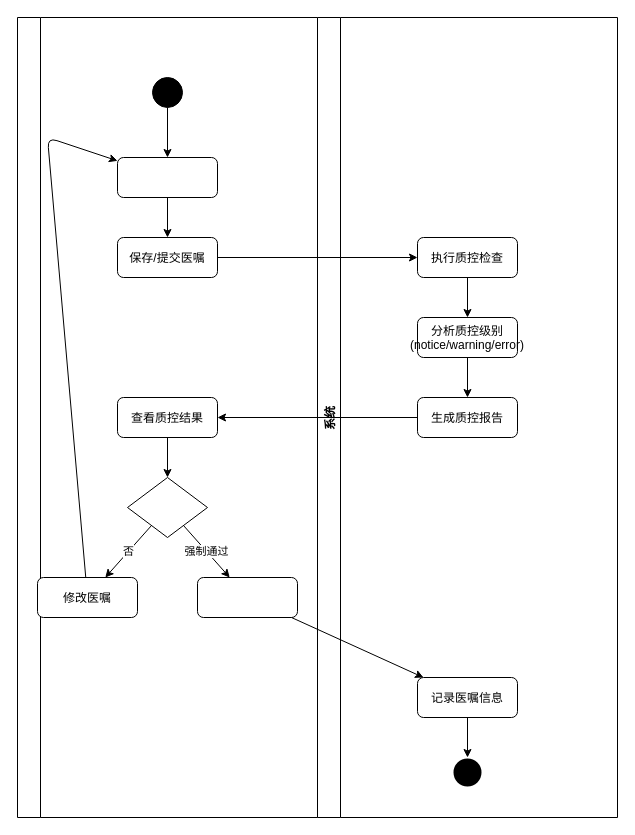
This 635x835 diagram has some shape labels left out. The box of each missing label's shape, as (x1, y1, x2, y2) in pixels:
医生: (16, 16, 318, 818)
填写强制通过理由: (196, 576, 298, 618)
开具医嘱 (用药/检验/检查/手术等): (116, 156, 218, 198)
是否通过: (126, 476, 208, 538)
